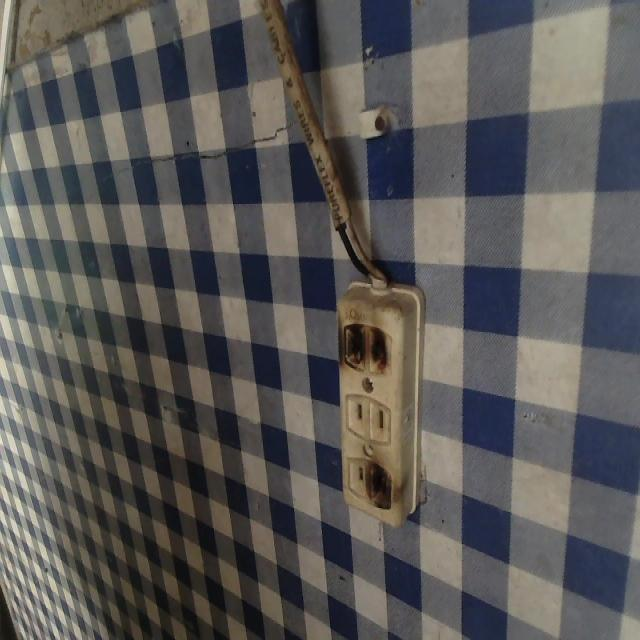-: (335, 317, 398, 380), (364, 454, 396, 514)
